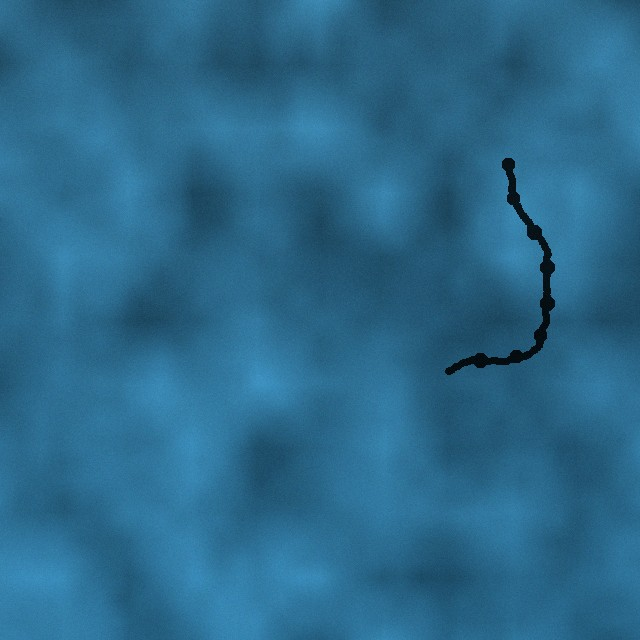crack: (440, 157, 555, 379)
